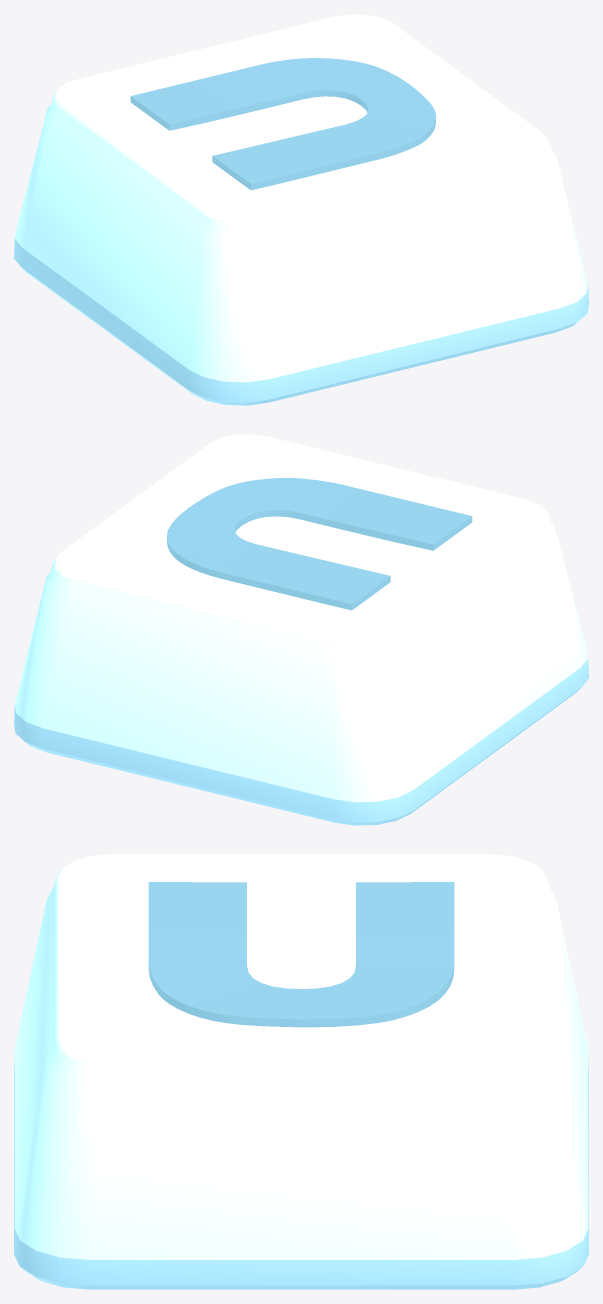
File: props__Key_U.glb
3 views of the same model, one above another, from view 1: azimuth 30°, elevation 25°; view 2: azimuth 150°, elevation 25°; view 3: azimuth 270°, elevation 25° (orthographic). The views are drawn at different scales.
Visible parts, largest first — view 1: Key_U; view 2: Key_U; view 3: Key_U.
Part boxes in pixels (<box>): Key_U: <box>14,14,588,405</box>; Key_U: <box>14,434,588,825</box>; Key_U: <box>14,854,588,1289</box>.
Size of the model in its own units: 3.9 by 1.65 by 3.9.
